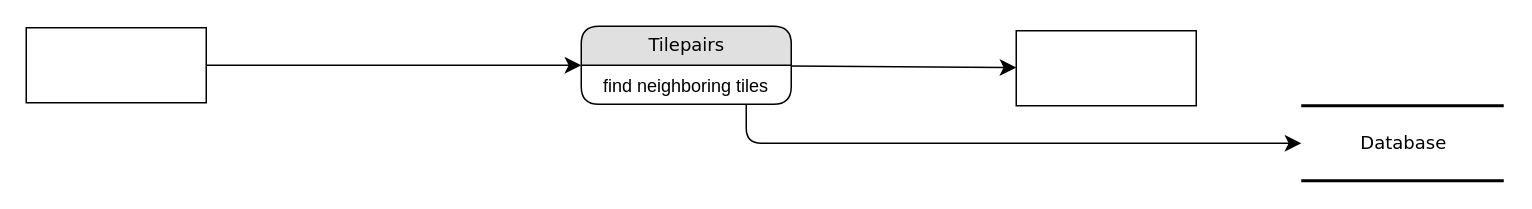
The diagram is 1532 pixels wide and 209 high, and some of its shapes have lost their labels. The centre of each missing label's shape, as x and y in pixels:
JSON list of pairs: (1105,67)
Stack: (115,64)
